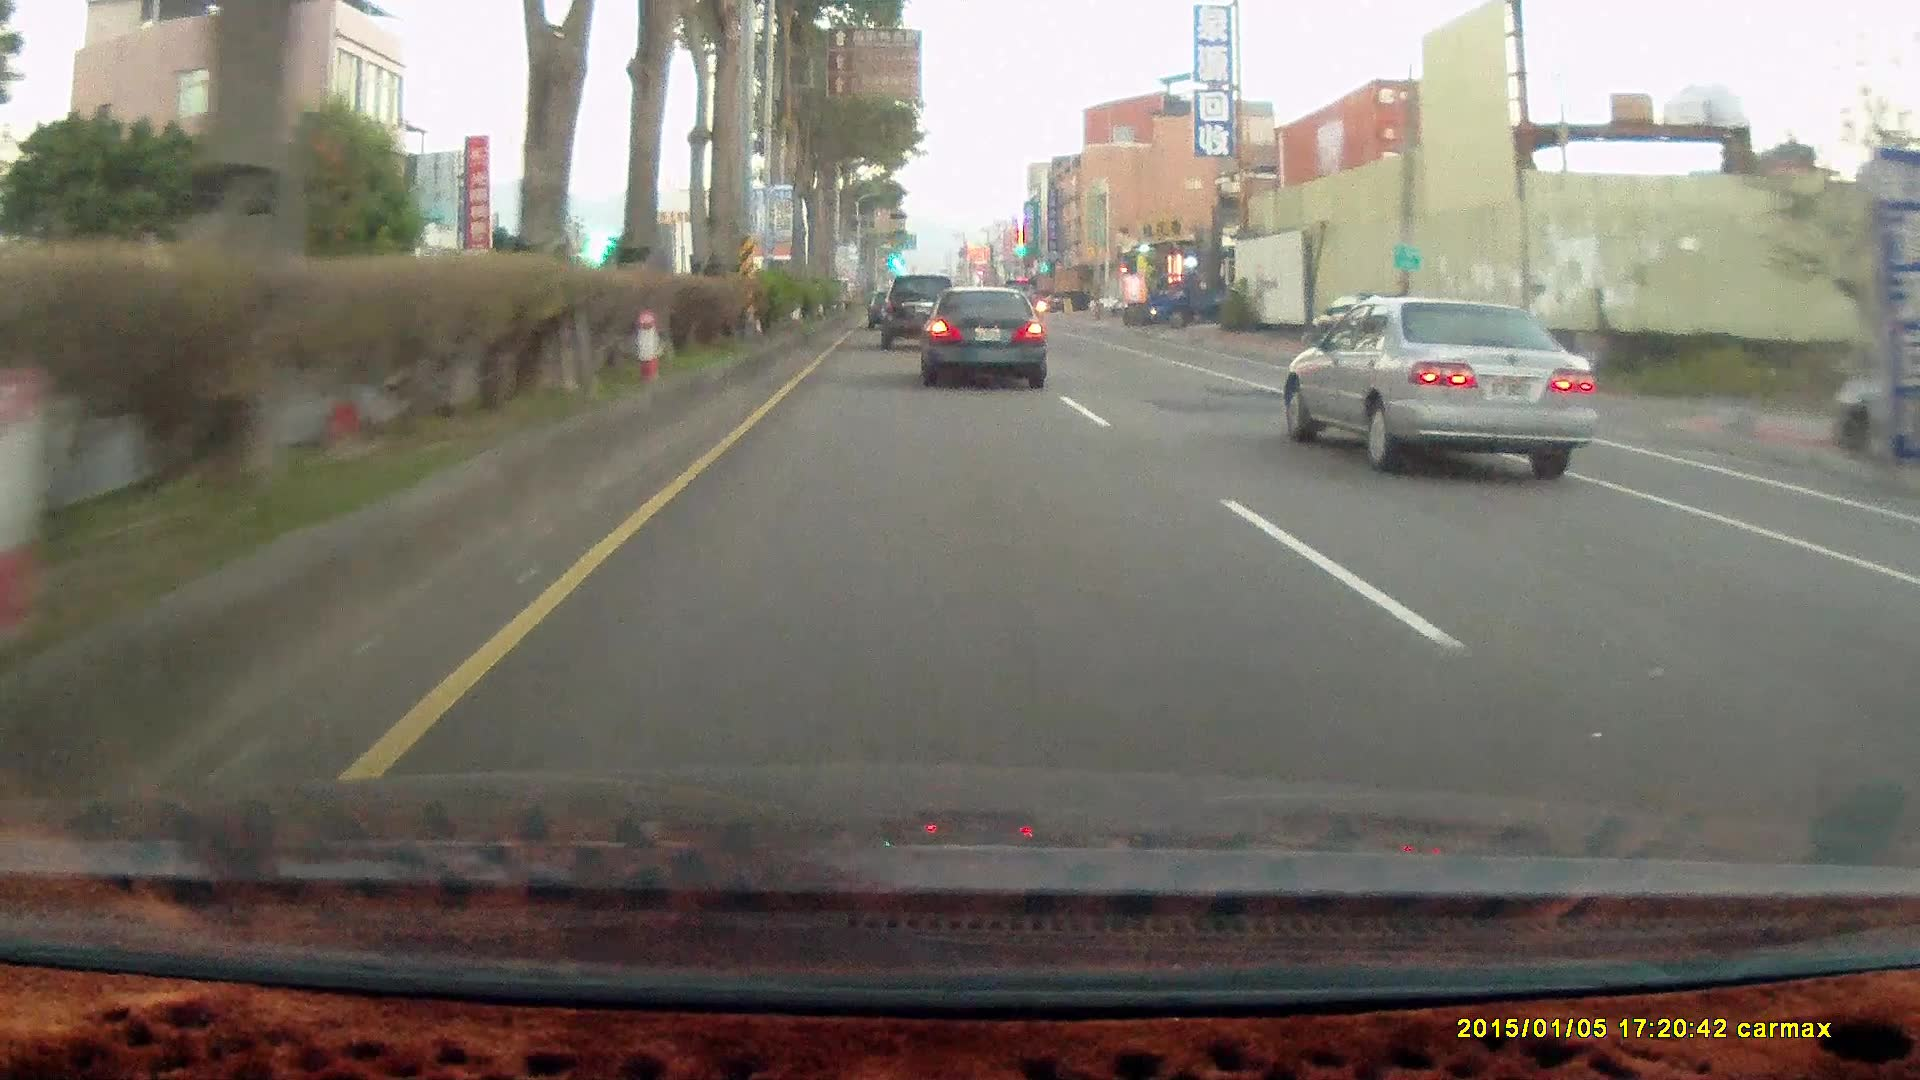vehicle: (1282, 293, 1607, 473), (1284, 293, 1600, 476), (914, 284, 1046, 388), (924, 286, 1054, 389), (880, 273, 960, 347), (880, 274, 960, 348), (1145, 268, 1233, 332), (1145, 268, 1233, 328), (1050, 287, 1091, 309)
